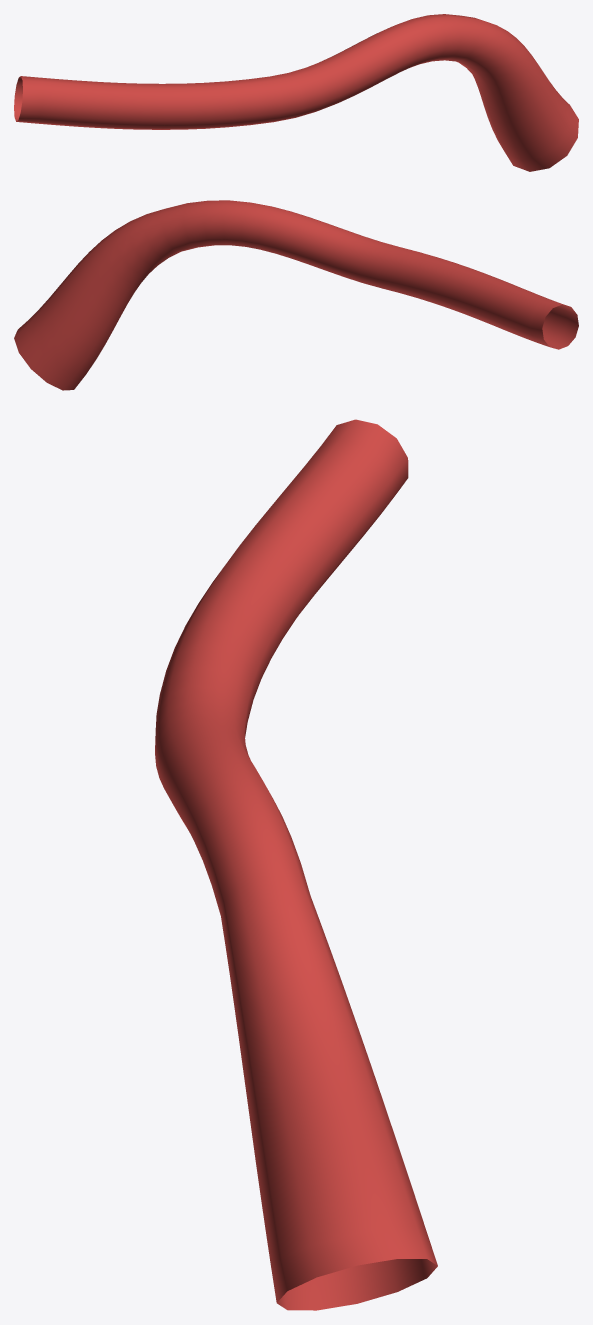
The picture shows the model from 3 angles, top to bottom: view 1: azimuth 30°, elevation 25°; view 2: azimuth 150°, elevation 25°; view 3: azimuth 270°, elevation 25°; orthographic projection. The views are drawn at different scales.
Parts seen in each view (by area): view 1: 右锁骨下动脉; view 2: 右锁骨下动脉; view 3: 右锁骨下动脉.
Boxes of the visible parts, x1,y1,x2,y2 form: 右锁骨下动脉: (14,14,578,171); 右锁骨下动脉: (14,200,578,390); 右锁骨下动脉: (155,419,437,1310).
Bounding box in the file's own units: 0.1022 × 0.0361 × 0.0226.
